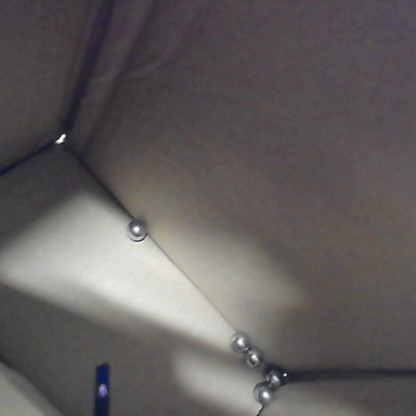ironball: (250, 379, 281, 409), (124, 212, 150, 241), (258, 364, 285, 388), (228, 324, 251, 352), (242, 344, 263, 368)
